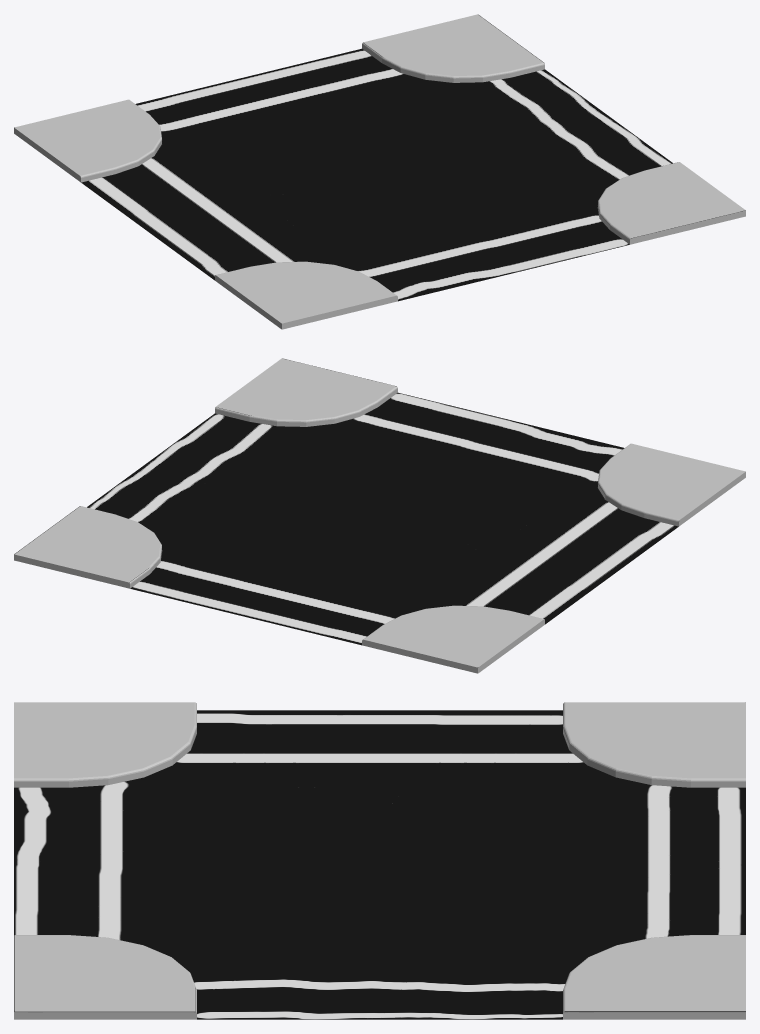
Rendered from road_center.glb.
The picture shows the model from 3 angles, top to bottom: view 1: azimuth 30°, elevation 25°; view 2: azimuth 150°, elevation 25°; view 3: azimuth 270°, elevation 25°; orthographic projection. The views are drawn at different scales.
Visible parts, largest first — view 1: Plane; view 2: Plane; view 3: Plane.
Part boxes in pixels (left/top/right/bottom): Plane: left=14, top=14, right=745, bottom=329; Plane: left=14, top=358, right=745, bottom=673; Plane: left=14, top=702, right=745, bottom=1019.
Bounding box in the file's own units: 4 × 0.05 × 4.
1 material, 1 textured.
